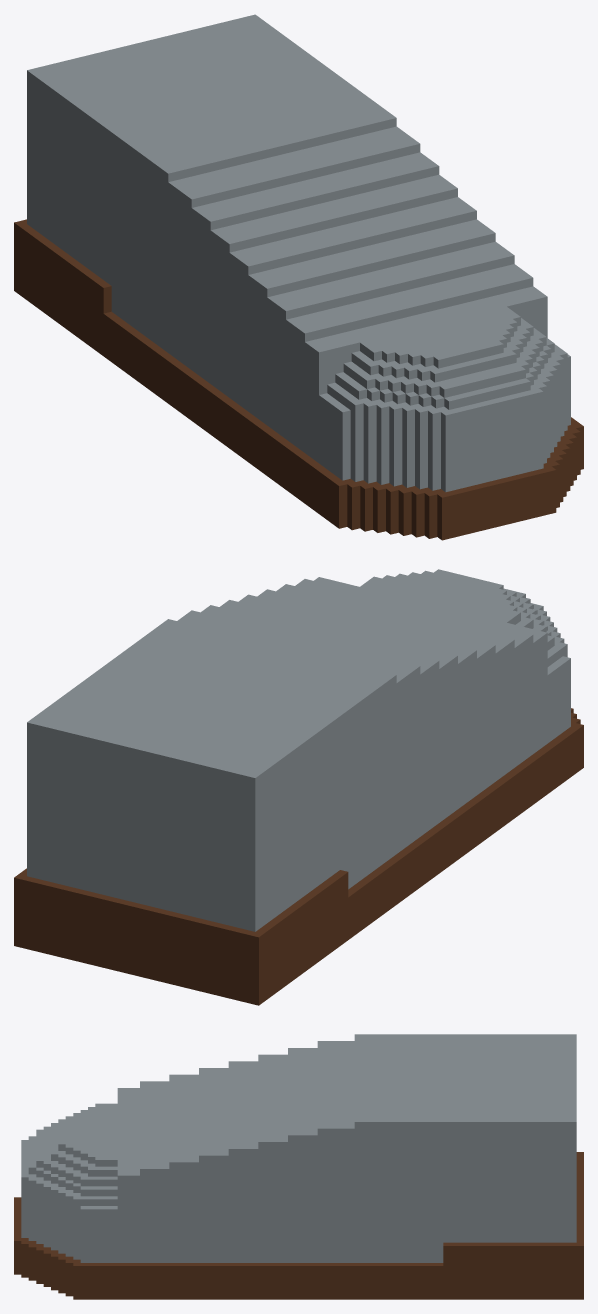
File: sabaton_worn_foot.glb
The picture shows the model from 3 angles, top to bottom: view 1: azimuth 30°, elevation 25°; view 2: azimuth 150°, elevation 25°; view 3: azimuth 270°, elevation 25°; orthographic projection. The views are drawn at different scales.
Visible parts, largest first — view 1: sabaton_worn_foot:compound; view 2: sabaton_worn_foot:compound; view 3: sabaton_worn_foot:compound.
Boxes of the visible parts, left/top/right/bottom form: sabaton_worn_foot:compound: left=14, top=14, right=583, bottom=540; sabaton_worn_foot:compound: left=14, top=569, right=583, bottom=1005; sabaton_worn_foot:compound: left=14, top=1034, right=583, bottom=1299.
Size of the model in its own units: 0.12 by 0.104 by 0.308.
